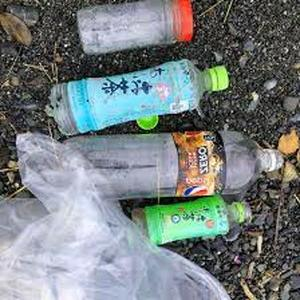Plastic: (66, 130, 286, 201), (49, 48, 228, 134), (135, 195, 256, 244)
